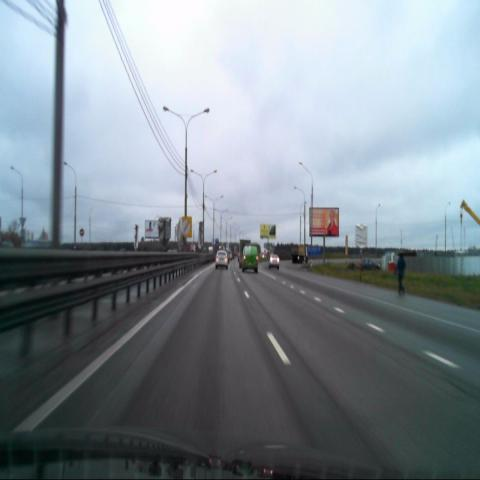3_31: (180, 216, 192, 237)
